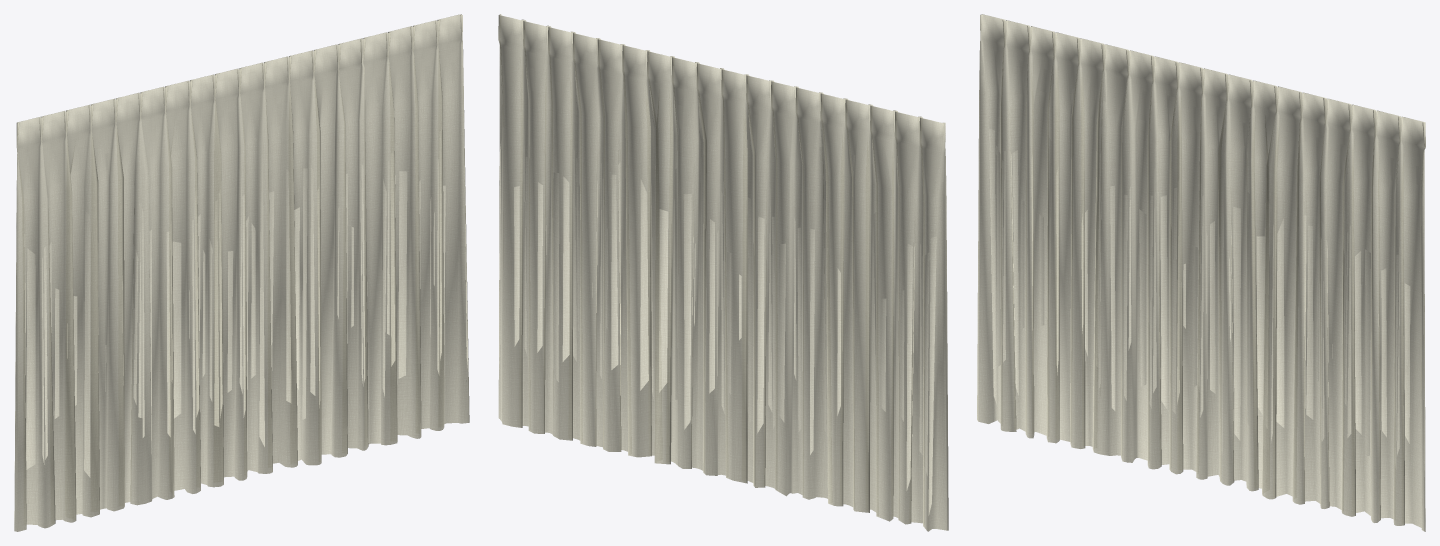
The model's file is curtain_774.glb.
The picture shows the model from 3 angles, left to right: view 1: azimuth 30°, elevation 25°; view 2: azimuth 150°, elevation 25°; view 3: azimuth 330°, elevation 25°; orthographic projection.
Visible parts, largest first — view 1: Object_3; view 2: Object_3; view 3: Object_3.
Boxes of the visible parts, x1,y1,x2,y2 form: Object_3: [14, 14, 469, 531]; Object_3: [498, 14, 948, 531]; Object_3: [977, 14, 1425, 531].
Bounding box in the file's own units: 111 × 96.64 × 4.97.
Materials: 1 (1 with a texture image).
